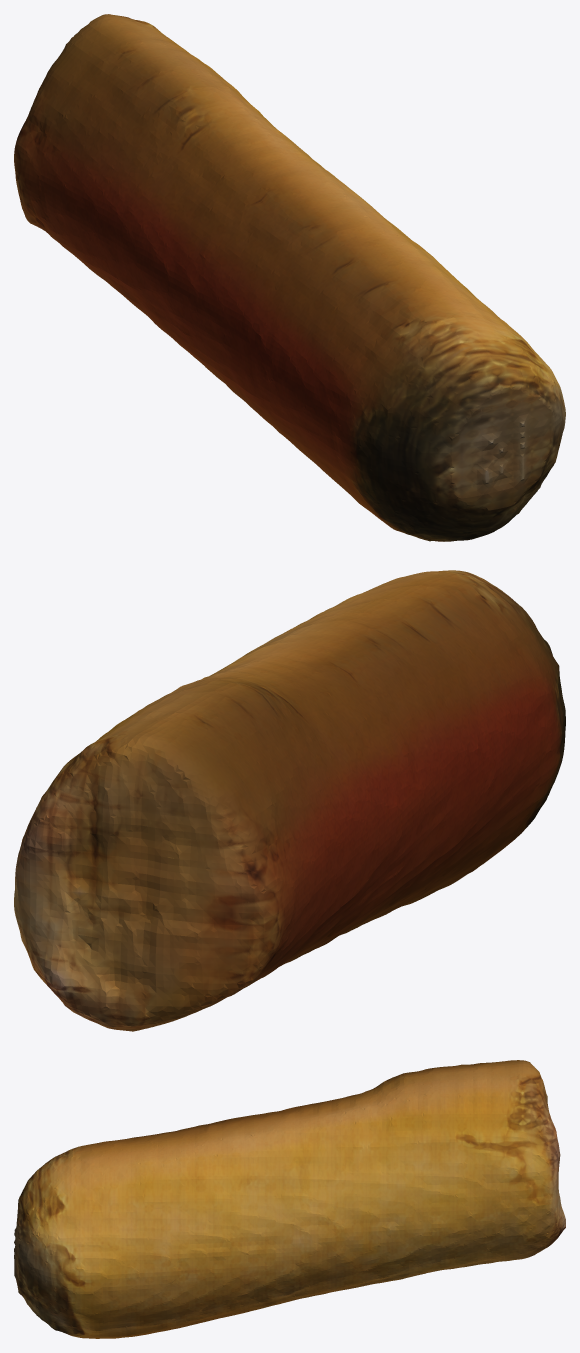
Rendered from 2_rgba.obj.
3 renders of one model, top to bottom at view 1: azimuth 30°, elevation 25°; view 2: azimuth 150°, elevation 25°; view 3: azimuth 270°, elevation 25°, orthographic. The views are drawn at different scales.
Size of the model in its own units: 0.8039 by 0.9867 by 1.98.
Materials: 1 (1 with a texture image).
